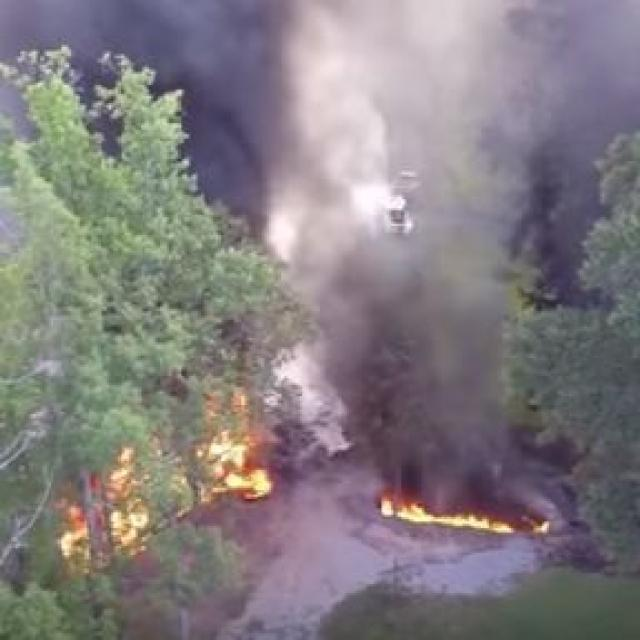Fire: (1, 64, 332, 496), (46, 416, 297, 540), (580, 5, 636, 435), (584, 114, 640, 309), (381, 491, 514, 531)
Smoke: (46, 9, 640, 335)
